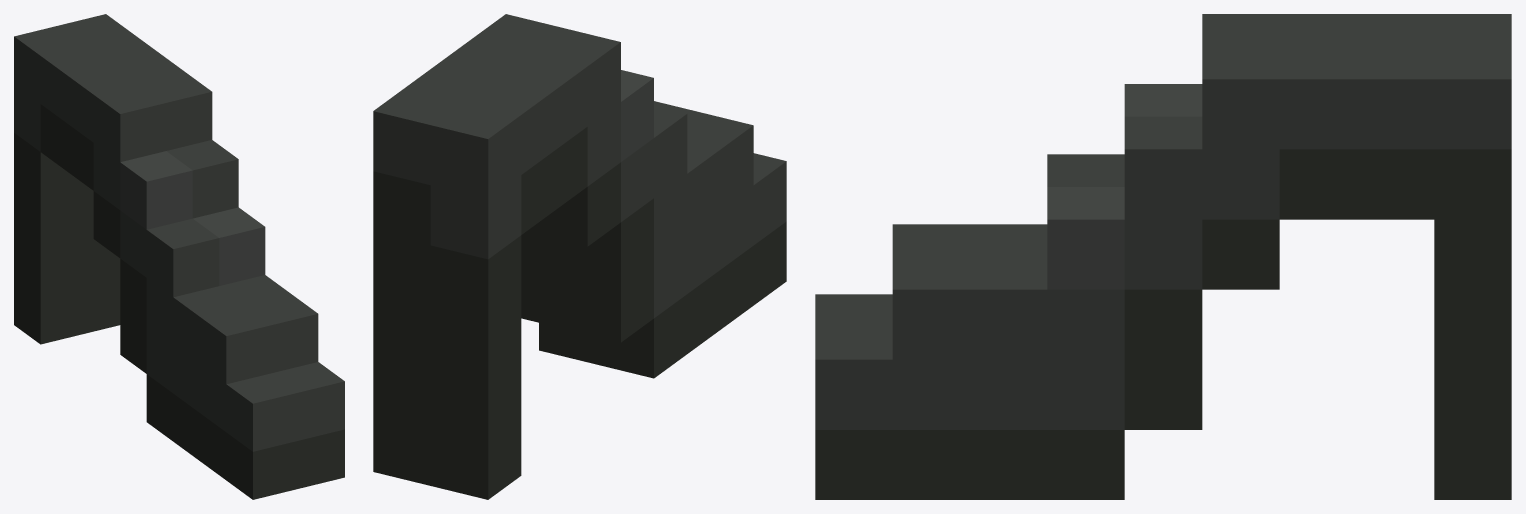
File: Shoe_05_Mesh.fbx
3 views of the same model, side by side, from view 1: azimuth 30°, elevation 25°; view 2: azimuth 150°, elevation 25°; view 3: azimuth 270°, elevation 25° (orthographic). The views are drawn at different scales.
Visible parts, largest first — view 1: Shoe_05_Mesh; view 2: Shoe_05_Mesh; view 3: Shoe_05_Mesh.
Part boxes in pixels (x1,y1,x2,y2): Shoe_05_Mesh: (14, 14, 344, 499); Shoe_05_Mesh: (373, 14, 786, 499); Shoe_05_Mesh: (815, 14, 1511, 499).
Size of the model in its own units: 0.2 by 0.6 by 0.9.
1 material, 1 textured.
